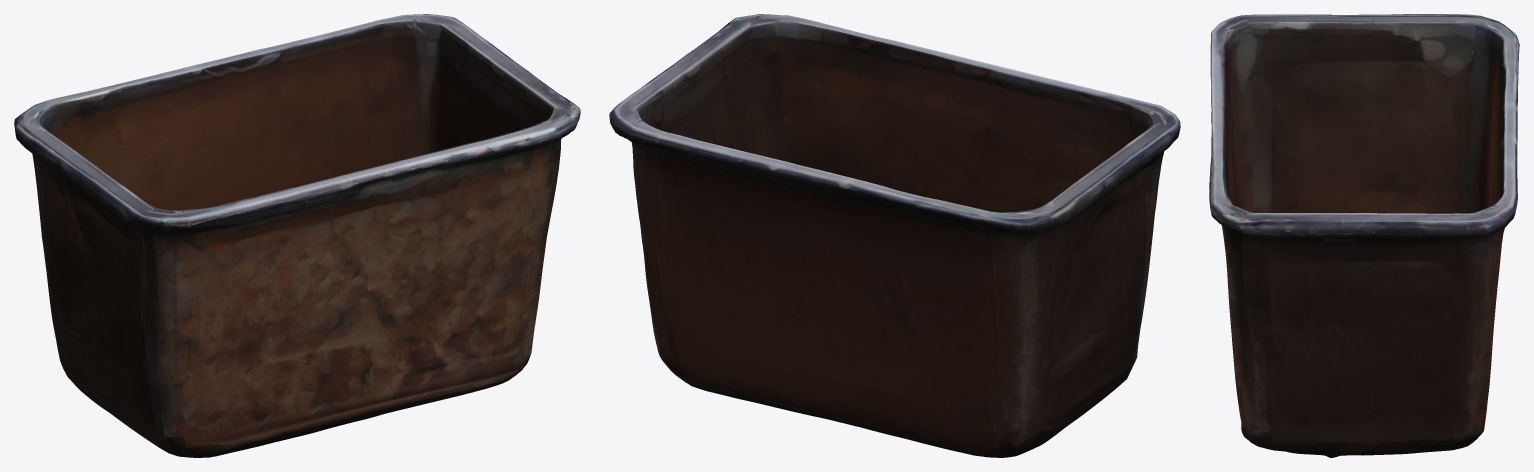
The model's file is rustic.glb.
The picture shows the model from 3 angles, left to right: view 1: azimuth 30°, elevation 25°; view 2: azimuth 150°, elevation 25°; view 3: azimuth 270°, elevation 25°; orthographic projection. The views are drawn at different scales.
Parts seen in each view (by area): view 1: world; view 2: world; view 3: world.
Boxes of the visible parts, left/top/right/bottom form: world: left=14, top=14, right=580, bottom=457; world: left=609, top=14, right=1180, bottom=457; world: left=1209, top=14, right=1519, bottom=457.
Size of the model in its own units: 0.9878 by 0.5733 by 0.6175.
1 material, 1 textured.
